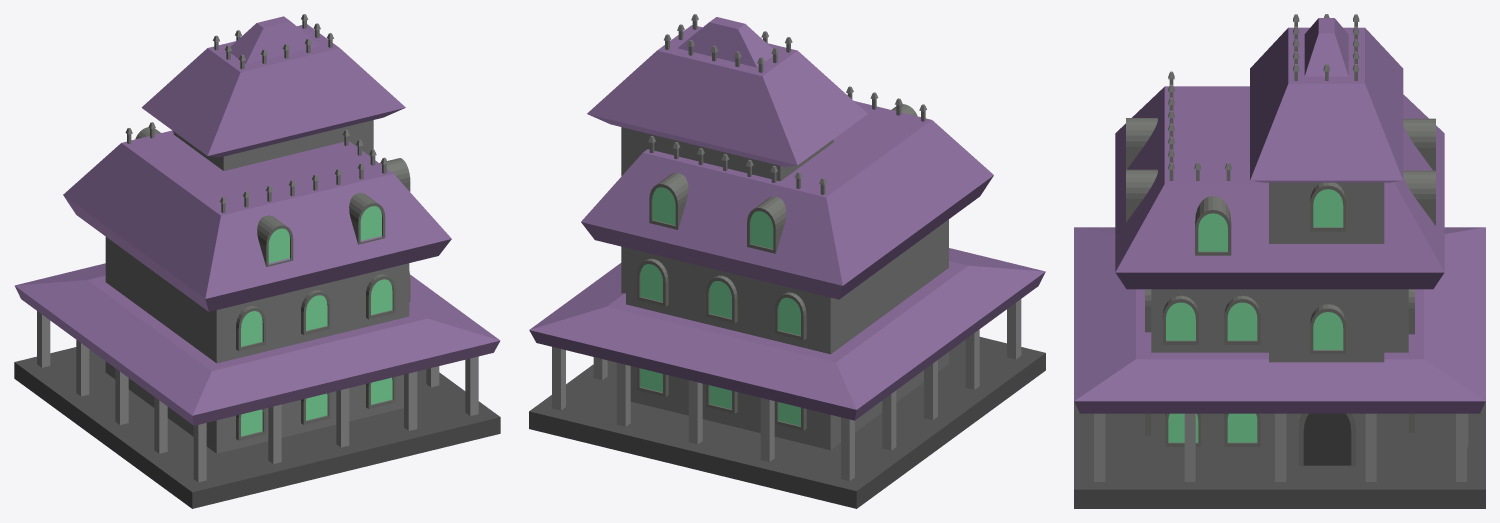
Rendered from Mansion.glb.
3 views of the same model, side by side, from view 1: azimuth 30°, elevation 25°; view 2: azimuth 150°, elevation 25°; view 3: azimuth 270°, elevation 25° (orthographic). The views are drawn at different scales.
Parts seen in each view (by area): view 1: Roof2, Roof1, Base, Cube, House, Railing.001, Window.012, Window.007, Railing.002, Window.011, Railing, Cube.007; view 2: Roof2, Roof1, Base, Cube, House, Railing.001, Window.013, Window.010, Railing.003, Window.009, Railing, Cube.008; view 3: Roof1, Cube, Roof2, Base, House, Railing, Door, Window.010, Window.006, Window.007, Window.004, Window.005 (+5 smaller).
Boxes of the visible parts, x1=… form: Roof2: x1=63, y1=130, x2=451, y2=311; Roof1: x1=14, y1=263, x2=500, y2=425; Base: x1=14, y1=347, x2=500, y2=508; Cube: x1=141, y1=16, x2=405, y2=170; House: x1=105, y1=237, x2=409, y2=453; Railing.001: x1=37, y1=311, x2=206, y2=482; Window.012: x1=236, y1=274, x2=395, y2=350; Window.007: x1=257, y1=193, x2=385, y2=266; Railing.002: x1=268, y1=371, x2=417, y2=463; Window.011: x1=236, y1=377, x2=395, y2=440; Railing: x1=426, y1=356, x2=478, y2=415; Cube.007: x1=220, y1=157, x2=387, y2=212; Roof2: x1=581, y1=101, x2=993, y2=299; Roof1: x1=529, y1=248, x2=1045, y2=420; Base: x1=529, y1=337, x2=1045, y2=508; Cube: x1=587, y1=17, x2=867, y2=293; House: x1=626, y1=219, x2=948, y2=450; Railing.001: x1=841, y1=299, x2=1021, y2=480; Window.013: x1=637, y1=258, x2=806, y2=340; Window.010: x1=649, y1=172, x2=786, y2=253; Railing.003: x1=616, y1=362, x2=774, y2=461; Window.009: x1=637, y1=367, x2=806, y2=430; Railing: x1=552, y1=347, x2=607, y2=410; Cube.008: x1=648, y1=136, x2=826, y2=194; Roof1: x1=1074, y1=227, x2=1485, y2=413; Cube: x1=1250, y1=18, x2=1403, y2=465; Roof2: x1=1115, y1=86, x2=1444, y2=289; Base: x1=1074, y1=401, x2=1485, y2=508; House: x1=1151, y1=289, x2=1408, y2=456; Railing: x1=1094, y1=413, x2=1466, y2=481; Door: x1=1299, y1=413, x2=1355, y2=466; Window.010: x1=1403, y1=118, x2=1435, y2=225; Window.006: x1=1195, y1=196, x2=1231, y2=255; Window.007: x1=1126, y1=118, x2=1157, y2=222; Window.004: x1=1310, y1=304, x2=1346, y2=354; Window.005: x1=1310, y1=182, x2=1346, y2=231.
Bounding box in the file's own units: 14.4 × 16.09 × 14.4.
